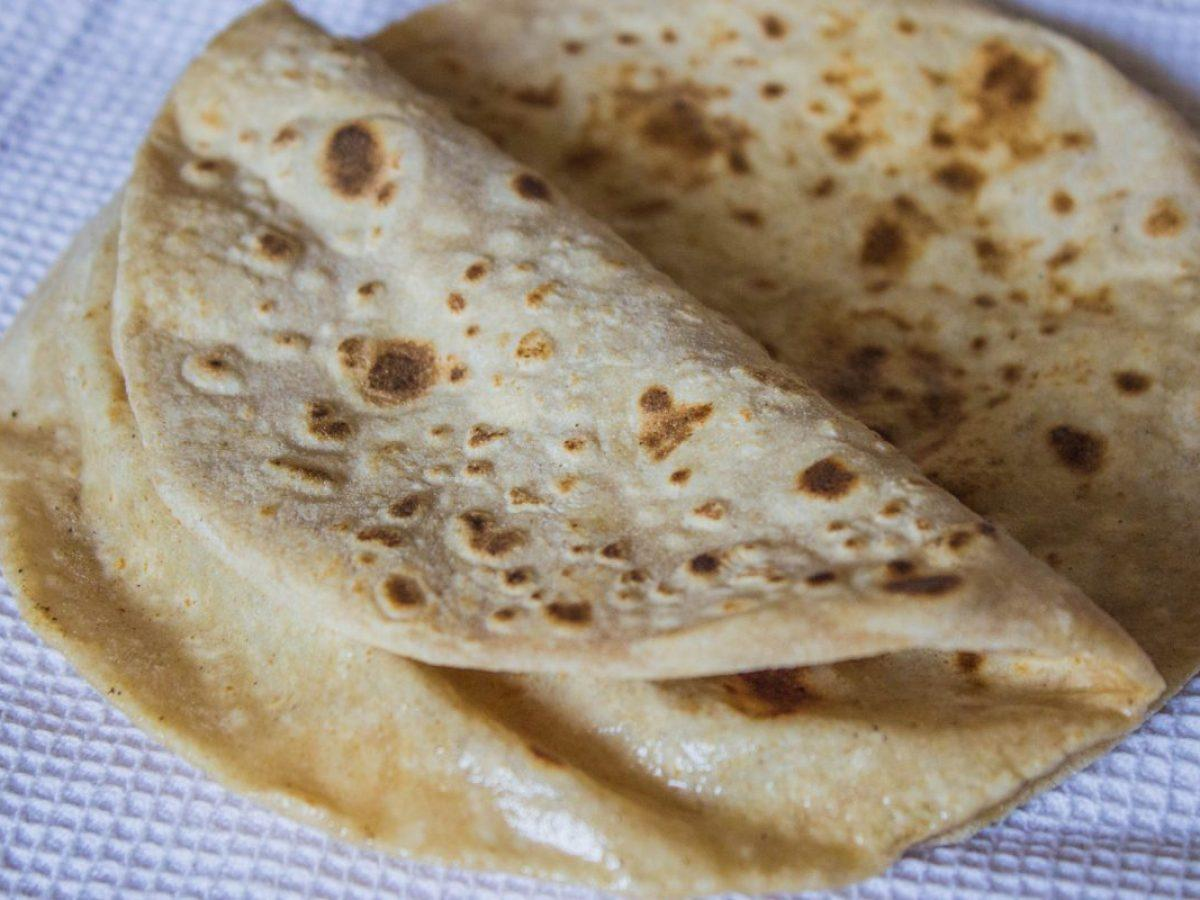roti: (1, 0, 1200, 900)
